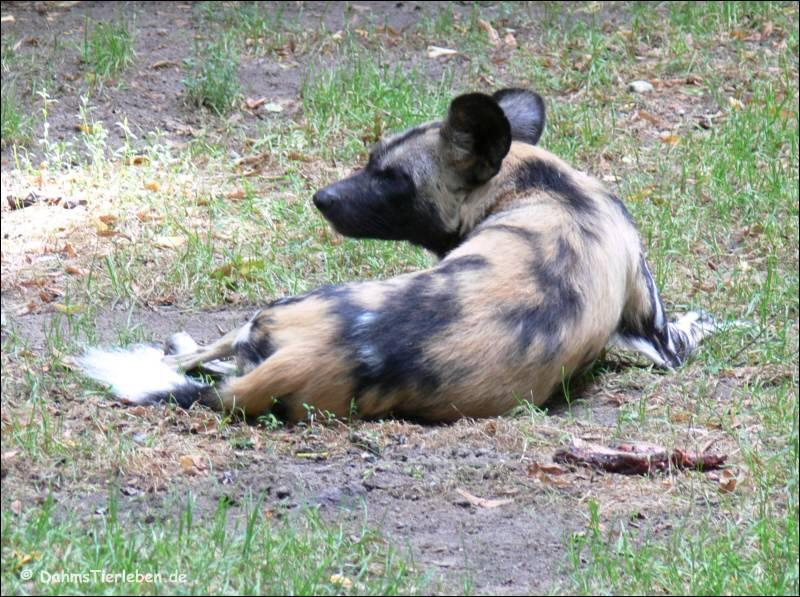African_hunting_dog: (59, 86, 723, 434)
